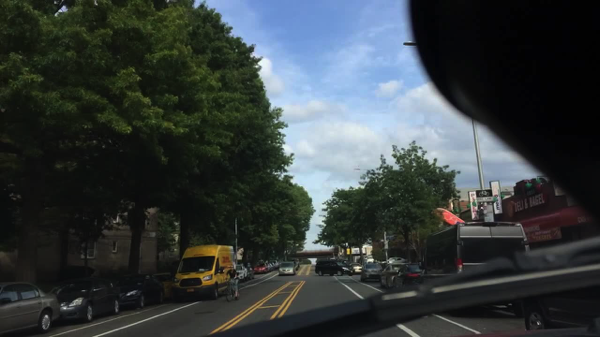bike: (228, 278, 235, 301)
bus: (417, 221, 530, 291)
car: (174, 244, 235, 301), (520, 287, 597, 331), (1, 282, 60, 336), (55, 277, 122, 324), (119, 272, 164, 312), (394, 263, 421, 289), (379, 263, 403, 289), (315, 261, 353, 277), (159, 272, 174, 301), (359, 264, 383, 282), (279, 263, 296, 276), (237, 264, 247, 279), (389, 257, 408, 264), (255, 263, 268, 273), (350, 264, 360, 275), (247, 265, 254, 280), (292, 258, 301, 266), (272, 261, 278, 268), (268, 264, 273, 271)
rider: (226, 266, 239, 298)
traffic sign: (476, 190, 494, 202), (380, 239, 390, 242)
